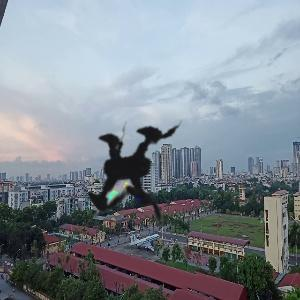drone: (11, 53, 235, 277)
